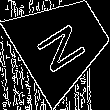N_NE: (31, 13, 93, 73)
